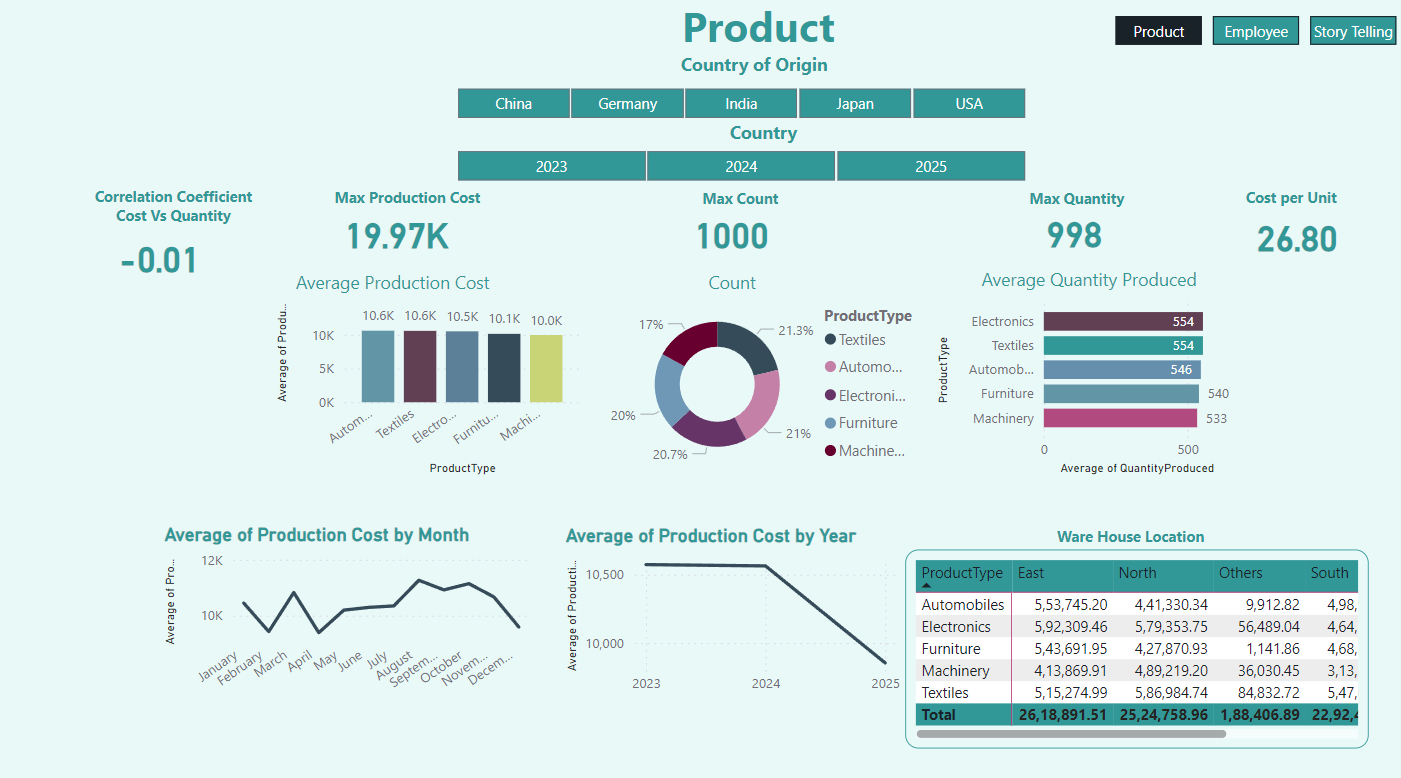

The dashboard page shown, as its layout file describes it:
{"tool":"powerbi","page":{"name":"Product","canvas":[1280,720],"ordinal":0},"visuals":[{"type":"textbox","box":[620.7,110.8,159.4,38.4],"z":0},{"type":"clusteredColumnChart","fields":{"Category":["Manufacturing1.ProductType"],"Y":["Avg(Manufacturing1.ProductionCost)"]},"box":[254.6,267.8,285.8,174.1],"z":1000},{"type":"donutChart","fields":{"Category":["Manufacturing1.ProductType"],"Y":["CountNonNull(Manufacturing1.ProductID)"]},"box":[557.1,267.8,287,174.1],"z":2000},{"type":"clusteredBarChart","fields":{"Category":["Manufacturing1.ProductType"],"Y":["Avg(Manufacturing1.QuantityProduced)"]},"box":[852.5,267.8,286,174.1],"z":3000},{"type":"card","fields":{"Values":["Max(Manufacturing1.ProductionCost)"]},"box":[306.4,193.5,124.4,50],"z":4000},{"type":"card","fields":{"Values":["CountNonNull(Manufacturing1.ProductID)"]},"box":[609.9,193.5,124.4,50],"z":5000},{"type":"textbox","box":[620.7,48.6,159.4,38.4],"z":6000},{"type":"card","fields":{"Values":["Max(Manufacturing1.QuantityProduced)"]},"box":[919.8,192.1,124.9,50.4],"z":7000},{"type":"lineChart","title":"Average of Production Cost by Month","fields":{"Category":["Manufacturing1.ProductionDate.Variation.Date Hierarchy.Month"],"Y":["Avg(Manufacturing1.ProductionCost)"]},"box":[153.7,480.3,339.8,162.1],"z":8000},{"type":"lineChart","title":"Average of Production Cost by Year","fields":{"Y":["Avg(Manufacturing1.ProductionCost)"],"Category":["Manufacturing1.ProductionDate.Variation.Date Hierarchy.Year"]},"box":[516.3,481.5,312.2,162.1],"z":9000},{"type":"pivotTable","fields":{"Rows":["Manufacturing1.ProductType"],"Values":["Sum(Manufacturing1.ProductionCost)"],"Columns":["Manufacturing1.WarehouseLocation"]},"box":[828.8,504.3,419.5,179.8],"z":10000},{"type":"textbox","box":[557.4,0,287.2,59.9],"z":11000},{"type":"card","fields":{"Values":["Average Production Cost by country.Average of ProductionCost and Average of QuantityProduced correlation for ProductID"]},"box":[82.5,218.4,142.9,43.2],"z":12000},{"type":"textbox","box":[70.5,170.4,193.3,54],"z":13000},{"type":"slicer","fields":{"Values":["Manufacturing1.CountryOfOrigin"]},"box":[398,80.3,563.1,39.6],"z":14000},{"type":"textbox","box":[272.6,246.6,193.3,36],"z":15000},{"type":"textbox","box":[575.2,246.6,193.3,36],"z":16000},{"type":"textbox","box":[868.1,242.6,253.4,36],"z":17000},{"type":"textbox","box":[297.8,171.7,162.1,30],"z":18000},{"type":"textbox","box":[600.4,172.9,158.5,30],"z":19000},{"type":"textbox","box":[931.8,172.9,104.5,30],"z":20000},{"type":"textbox","box":[961.1,478.3,182,28.3],"z":21000},{"type":"card","fields":{"Values":["Avg(Manufacturing1.Costperunit)"]},"box":[1121.5,196.9,123.7,48],"z":22000},{"type":"textbox","box":[1132.3,171.7,100.9,27.6],"z":23000},{"type":"pageNavigator","box":[1014.2,17,265.7,36.2],"z":24000},{"type":"slicer","fields":{"Values":["Manufacturing1.ProductionDate.Variation.Date Hierarchy.Year"]},"box":[398,136.8,563.1,39.6],"z":25000}]}

Visuals, with their boxes in screenshot pixels (x1, y1, x2, y2), scaled from the page's 1280x720 canvas onto the 1401x778 screenshot:
textbox: (x1=679, y1=120, x2=854, y2=161)
clusteredColumnChart - Manufacturing1.ProductType x Avg(Manufacturing1.ProductionCost): (x1=279, y1=289, x2=591, y2=477)
donutChart - Manufacturing1.ProductType x CountNonNull(Manufacturing1.ProductID): (x1=610, y1=289, x2=924, y2=477)
clusteredBarChart - Manufacturing1.ProductType x Avg(Manufacturing1.QuantityProduced): (x1=933, y1=289, x2=1246, y2=477)
card - Max(Manufacturing1.ProductionCost): (x1=335, y1=209, x2=472, y2=263)
card - CountNonNull(Manufacturing1.ProductID): (x1=668, y1=209, x2=804, y2=263)
textbox: (x1=679, y1=53, x2=854, y2=94)
card - Max(Manufacturing1.QuantityProduced): (x1=1007, y1=208, x2=1143, y2=262)
"Average of Production Cost by Month" lineChart: (x1=168, y1=519, x2=540, y2=694)
"Average of Production Cost by Year" lineChart: (x1=565, y1=520, x2=907, y2=695)
pivotTable - Manufacturing1.ProductType x Sum(Manufacturing1.ProductionCost): (x1=907, y1=545, x2=1366, y2=739)
textbox: (x1=610, y1=0, x2=924, y2=65)
card - Average Production Cost by country.Average of ProductionCost and Average of QuantityProduced correlation for ProductID: (x1=90, y1=236, x2=247, y2=283)
textbox: (x1=77, y1=184, x2=289, y2=242)
slicer - Manufacturing1.CountryOfOrigin: (x1=436, y1=87, x2=1052, y2=130)
textbox: (x1=298, y1=266, x2=510, y2=305)
textbox: (x1=630, y1=266, x2=841, y2=305)
textbox: (x1=950, y1=262, x2=1228, y2=301)
textbox: (x1=326, y1=186, x2=503, y2=218)
textbox: (x1=657, y1=187, x2=831, y2=219)
textbox: (x1=1020, y1=187, x2=1134, y2=219)
textbox: (x1=1052, y1=517, x2=1251, y2=547)
card - Avg(Manufacturing1.Costperunit): (x1=1228, y1=213, x2=1363, y2=265)
textbox: (x1=1239, y1=186, x2=1350, y2=215)
pageNavigator: (x1=1110, y1=18, x2=1400, y2=57)
slicer - Manufacturing1.ProductionDate.Variation.Date Hierarchy.Year: (x1=436, y1=148, x2=1052, y2=191)
